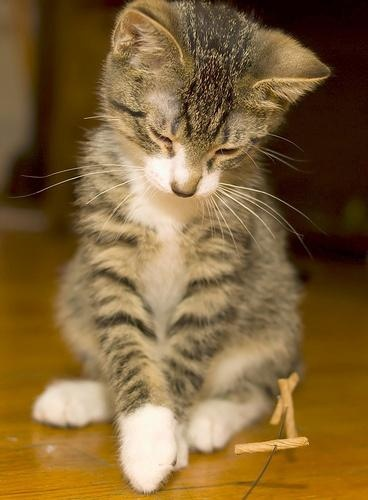cat: (28, 1, 335, 496)
